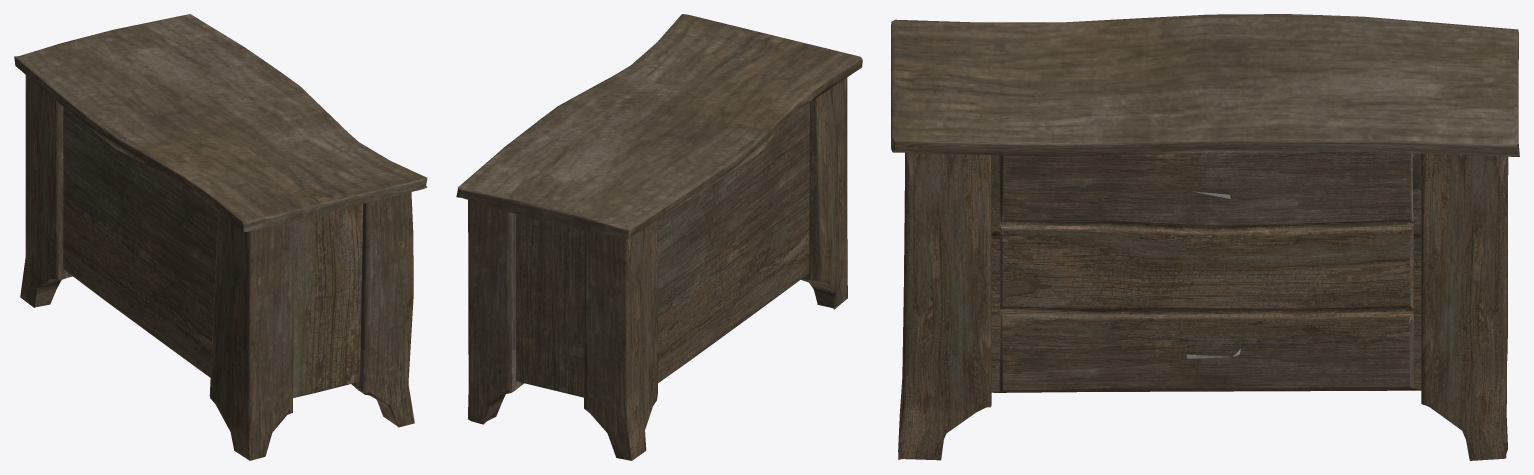
The model's file is SM_Wardrobe02.fbx.
3 views of the same model, side by side, from view 1: azimuth 30°, elevation 25°; view 2: azimuth 150°, elevation 25°; view 3: azimuth 270°, elevation 25° (orthographic). The views are drawn at different scales.
Visible parts, largest first — view 1: SM_Wardrobe02_LOD0; view 2: SM_Wardrobe02_LOD0; view 3: SM_Wardrobe02_LOD0.
Part boxes in pixels (left/top/right/bottom): SM_Wardrobe02_LOD0: left=14, top=14, right=427, bottom=460; SM_Wardrobe02_LOD0: left=456, top=14, right=862, bottom=460; SM_Wardrobe02_LOD0: left=891, top=14, right=1519, bottom=460.
Size of the model in its own units: 78.06 by 163 by 94.29.
